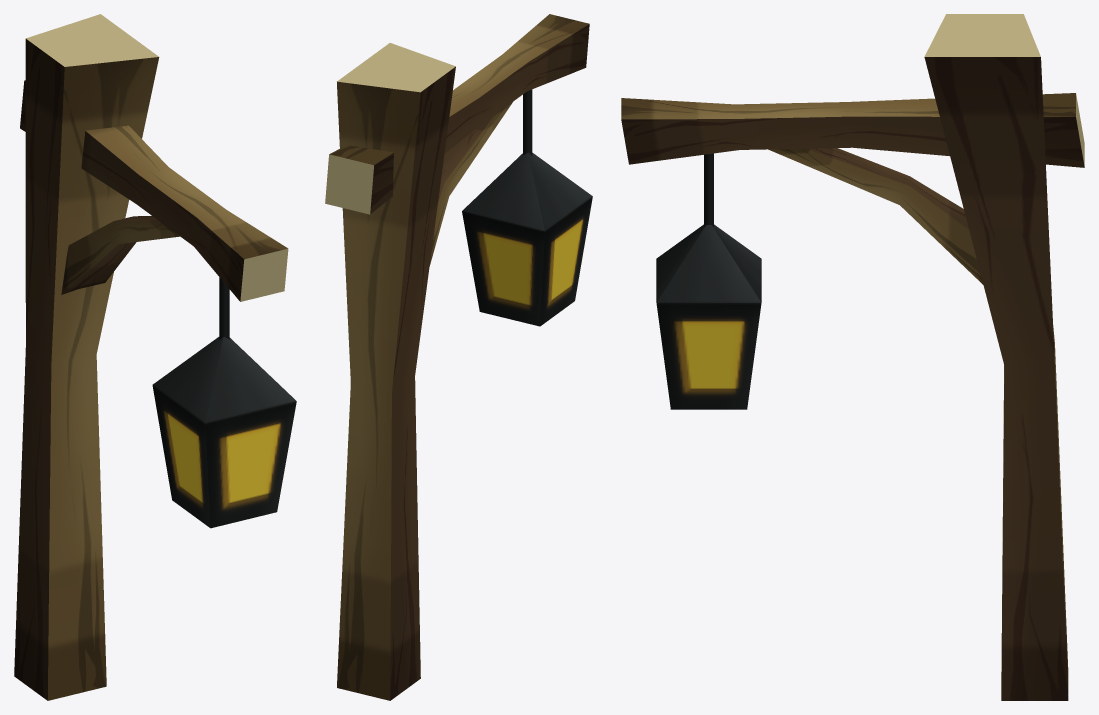
File: Light_001.fbx
3 views of the same model, side by side, from view 1: azimuth 30°, elevation 25°; view 2: azimuth 150°, elevation 25°; view 3: azimuth 270°, elevation 25° (orthographic). The views are drawn at different scales.
Parts seen in each view (by area): view 1: Object142; view 2: Object142; view 3: Object142.
Boxes of the visible parts, box(x1,y1,x2,y2) form: Object142: box(14, 14, 296, 700); Object142: box(325, 14, 592, 700); Object142: box(621, 14, 1084, 700).
Size of the model in its own units: 0.6834 by 4.69 by 3.02.
